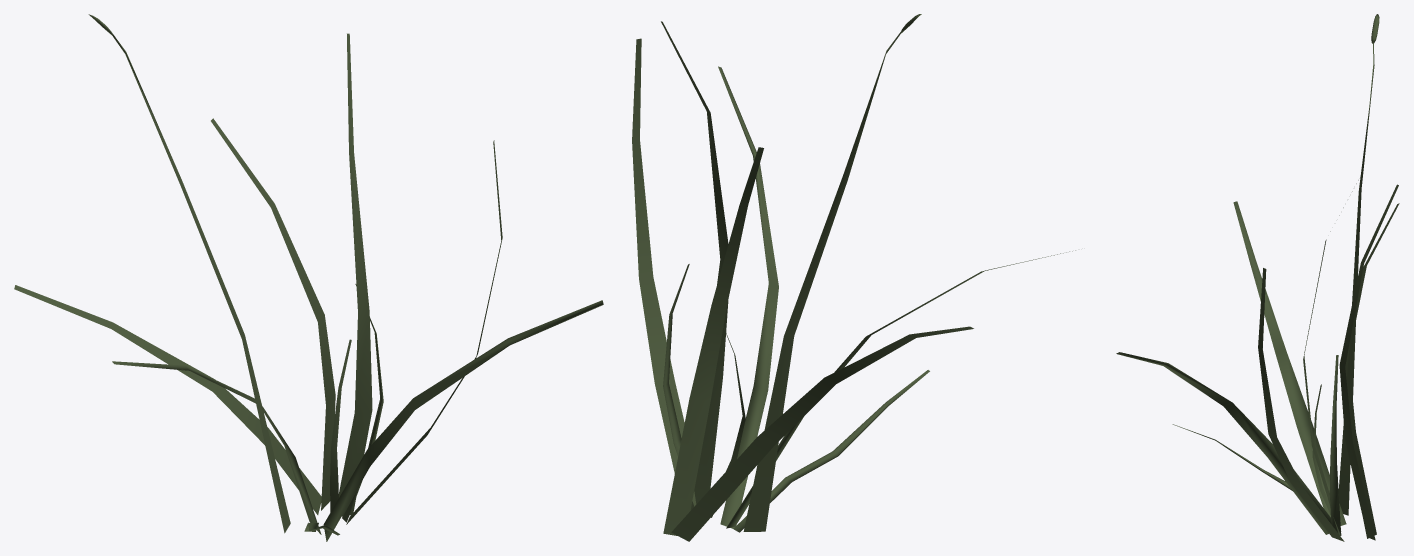
The model's file is Grass 4.fbx.
3 renders of one model, left to right at view 1: azimuth 30°, elevation 25°; view 2: azimuth 150°, elevation 25°; view 3: azimuth 270°, elevation 25°, orthographic. The views are drawn at different scales.
Visible parts, largest first — view 1: Grass 4; view 2: Grass 4; view 3: Grass 4.
Boxes of the visible parts, x1,y1,x2,y2 form: Grass 4: (14,14,603,541); Grass 4: (632,14,1075,541); Grass 4: (1116,14,1399,541).
Size of the model in its own units: 79.8 by 101 by 59.09.
